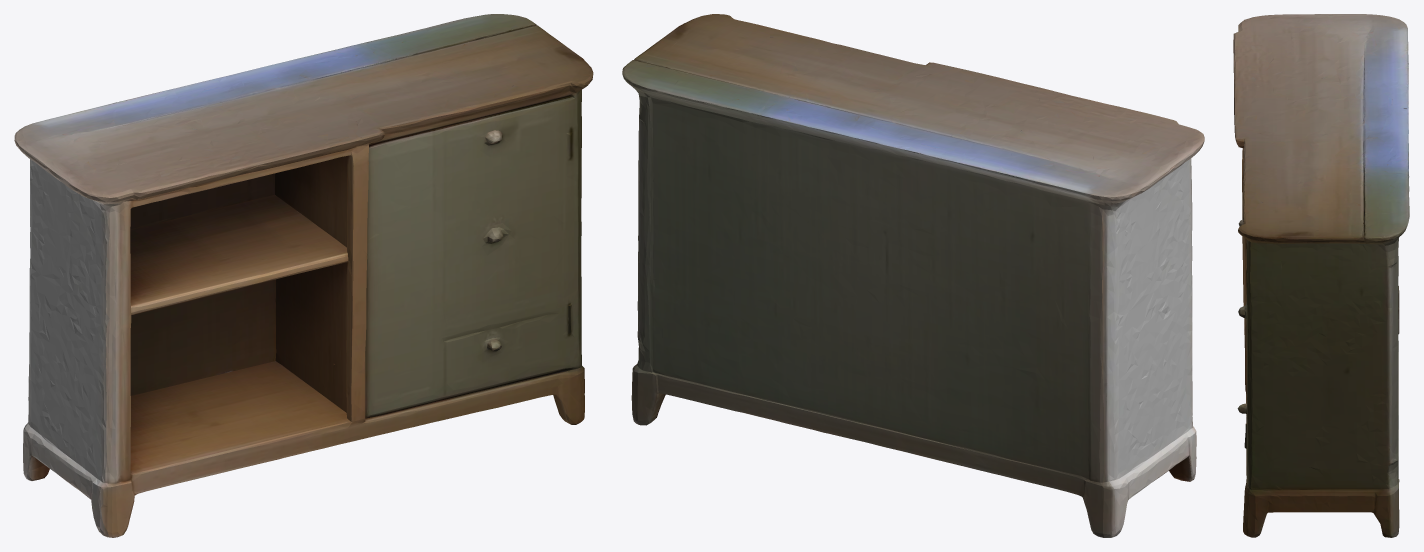
The model's file is ast_a1a4c88b4f00.glb.
The picture shows the model from 3 angles, left to right: view 1: azimuth 30°, elevation 25°; view 2: azimuth 150°, elevation 25°; view 3: azimuth 270°, elevation 25°; orthographic projection. The views are drawn at different scales.
Parts seen in each view (by area): view 1: geometry_0; view 2: geometry_0; view 3: geometry_0.
Boxes of the visible parts, x1,y1,x2,y2 form: geometry_0: (14,14,593,537); geometry_0: (622,14,1204,537); geometry_0: (1233,14,1409,537).
Bounding box in the file's own units: 1 × 0.6453 × 0.3324.
1 material, 1 textured.
